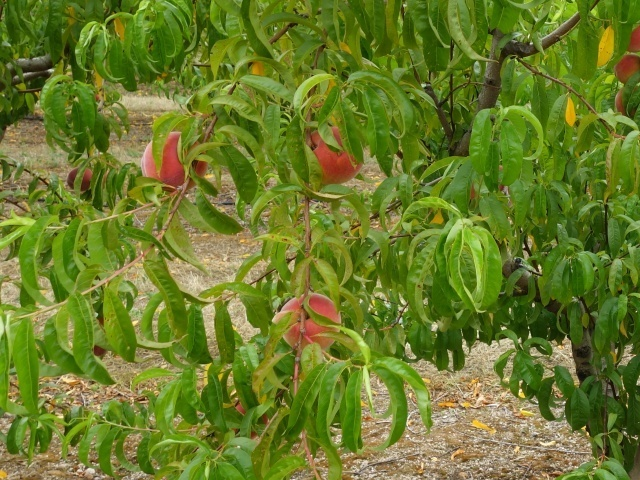peach: (136, 131, 212, 195), (275, 290, 346, 357), (300, 126, 367, 186), (612, 20, 640, 88), (607, 82, 634, 121), (63, 164, 96, 194)
